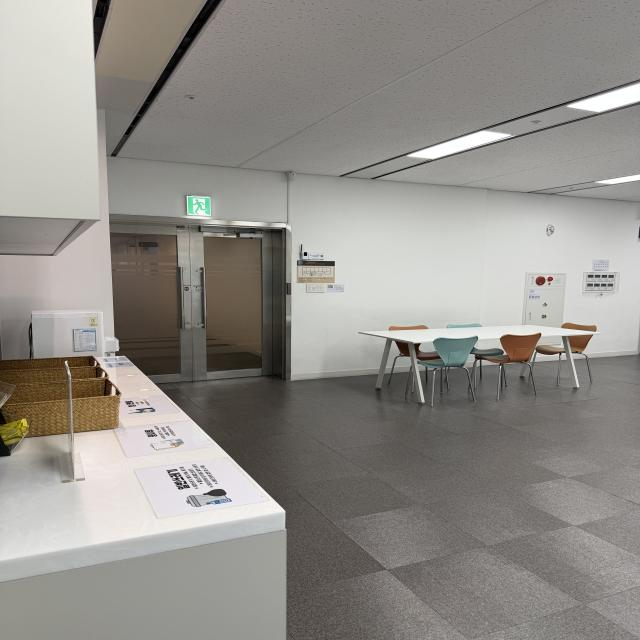rear_door: (110, 220, 285, 382)
